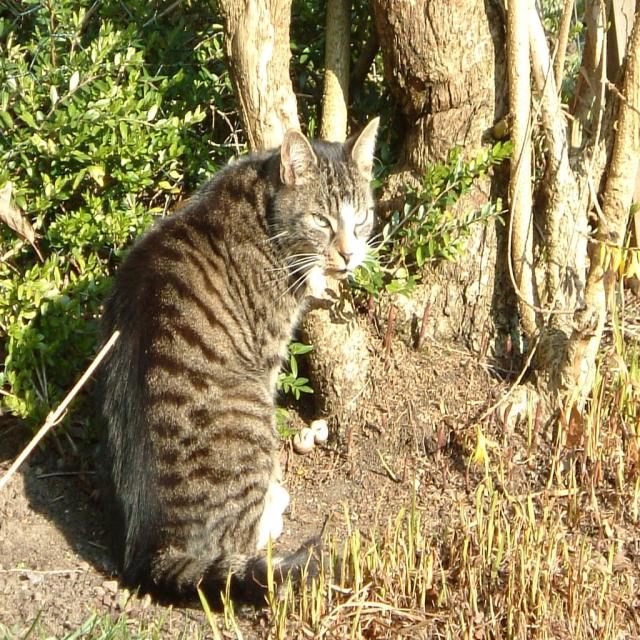Cat: (102, 106, 377, 612)
